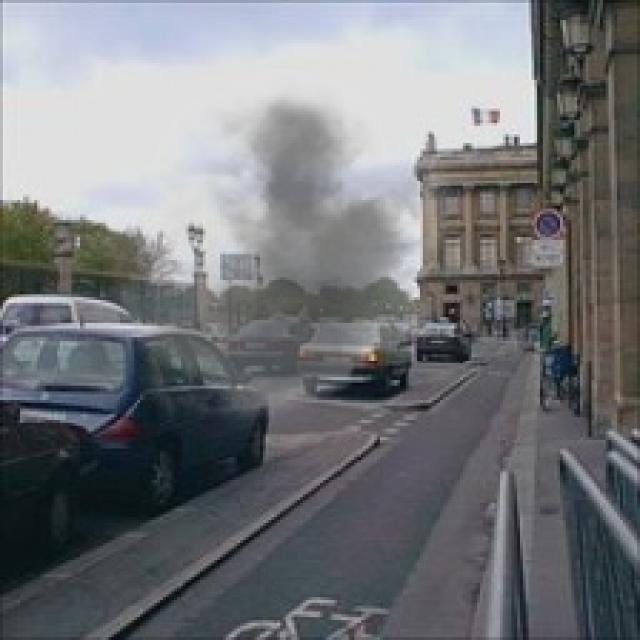Smoke: (74, 66, 469, 437)
